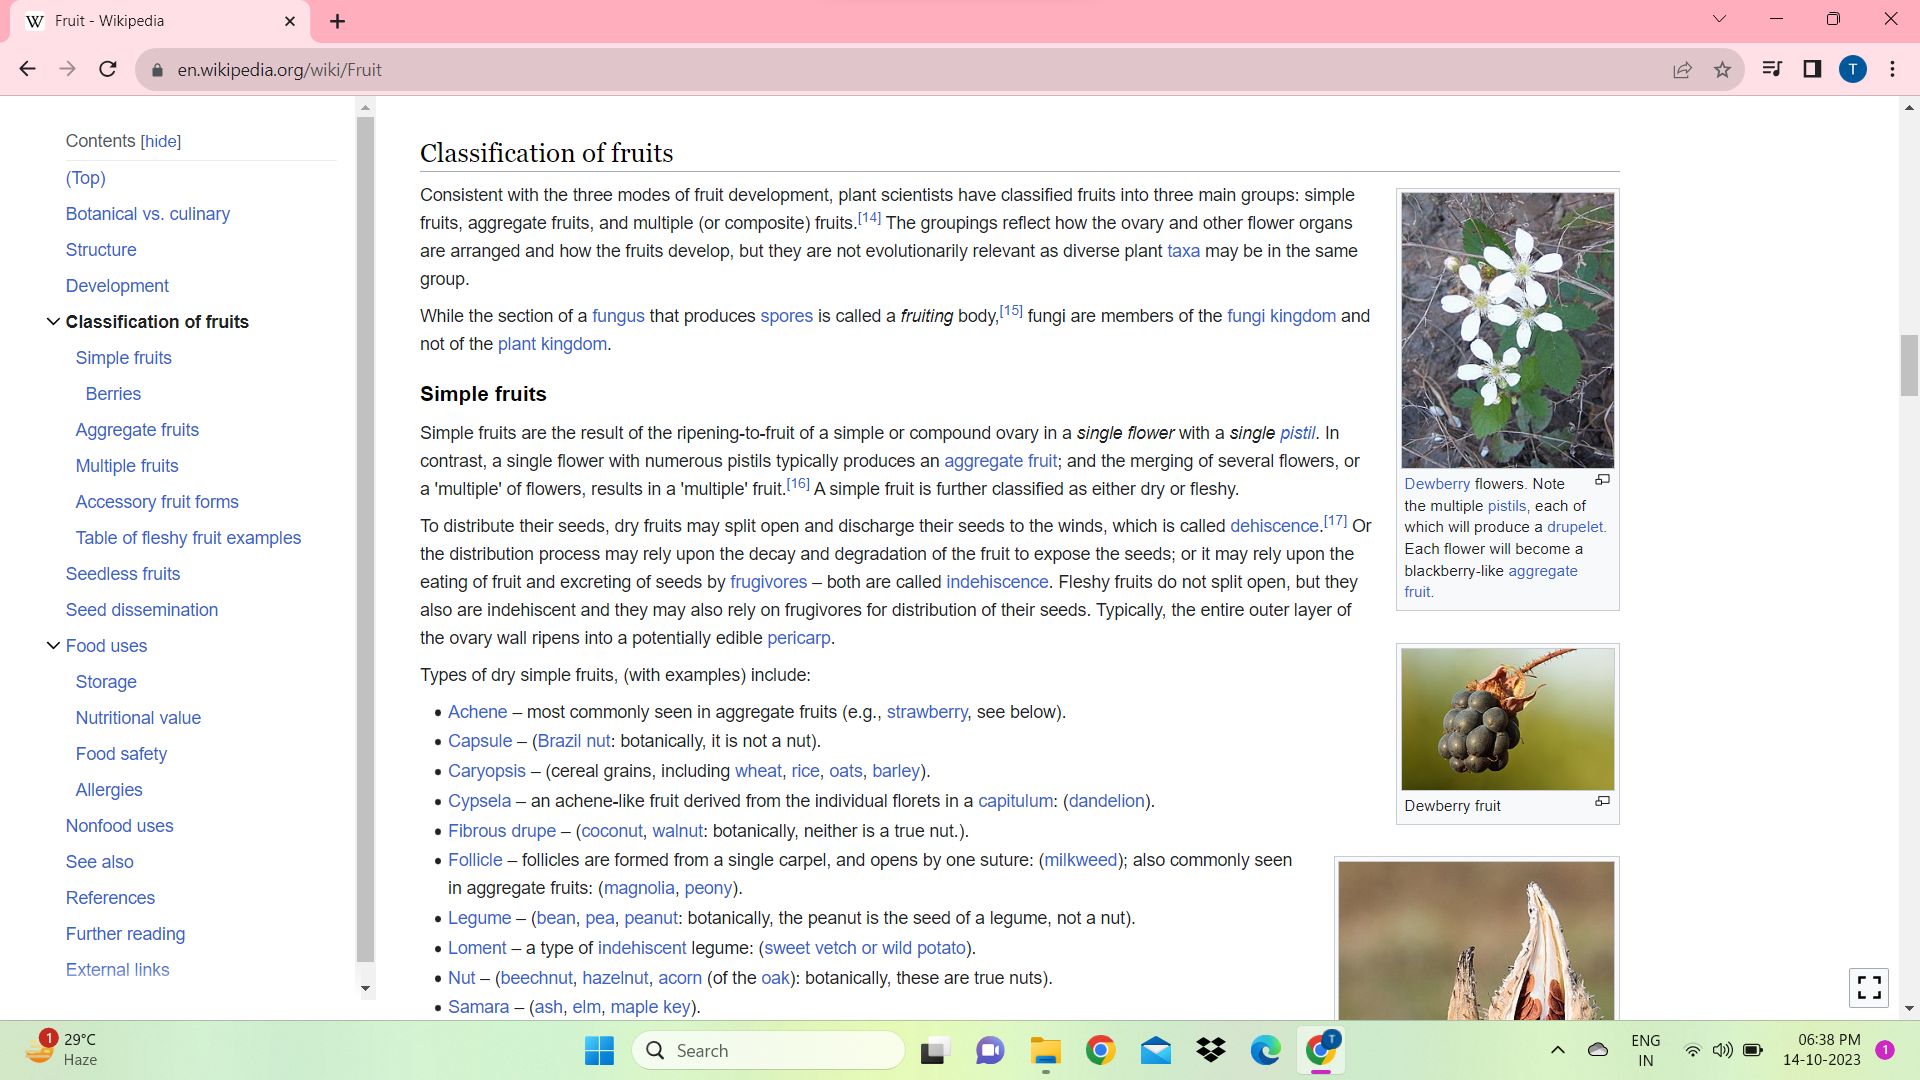Image: (1394, 179, 1618, 472), (1340, 848, 1615, 1025), (1390, 634, 1621, 796)
Paragraph: (444, 699, 1319, 1018), (401, 502, 1374, 645), (411, 183, 1361, 289), (410, 410, 1364, 502), (407, 298, 1378, 364), (421, 136, 696, 173), (411, 661, 818, 686), (61, 196, 237, 233), (74, 522, 299, 550), (62, 306, 257, 336), (50, 125, 207, 160), (54, 913, 187, 951), (61, 593, 223, 624), (417, 371, 550, 407), (69, 489, 245, 516), (57, 807, 190, 841), (69, 421, 231, 444), (50, 560, 186, 584), (71, 774, 156, 807), (80, 454, 183, 479), (67, 708, 203, 727), (67, 274, 170, 298), (74, 665, 145, 695), (71, 349, 177, 369), (75, 742, 170, 764), (61, 844, 140, 869), (57, 241, 149, 261), (58, 885, 164, 902), (67, 960, 170, 977), (61, 164, 121, 193), (82, 377, 146, 401), (61, 637, 152, 651)
